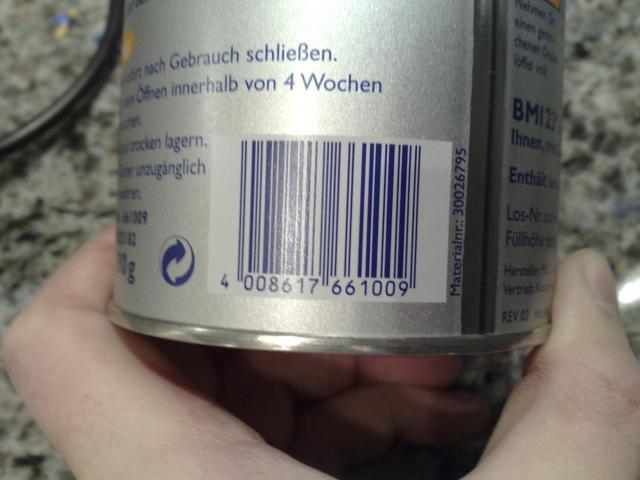Barcode: (213, 141, 433, 300)
